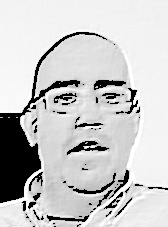nose_M_C: (73, 100, 105, 136)
